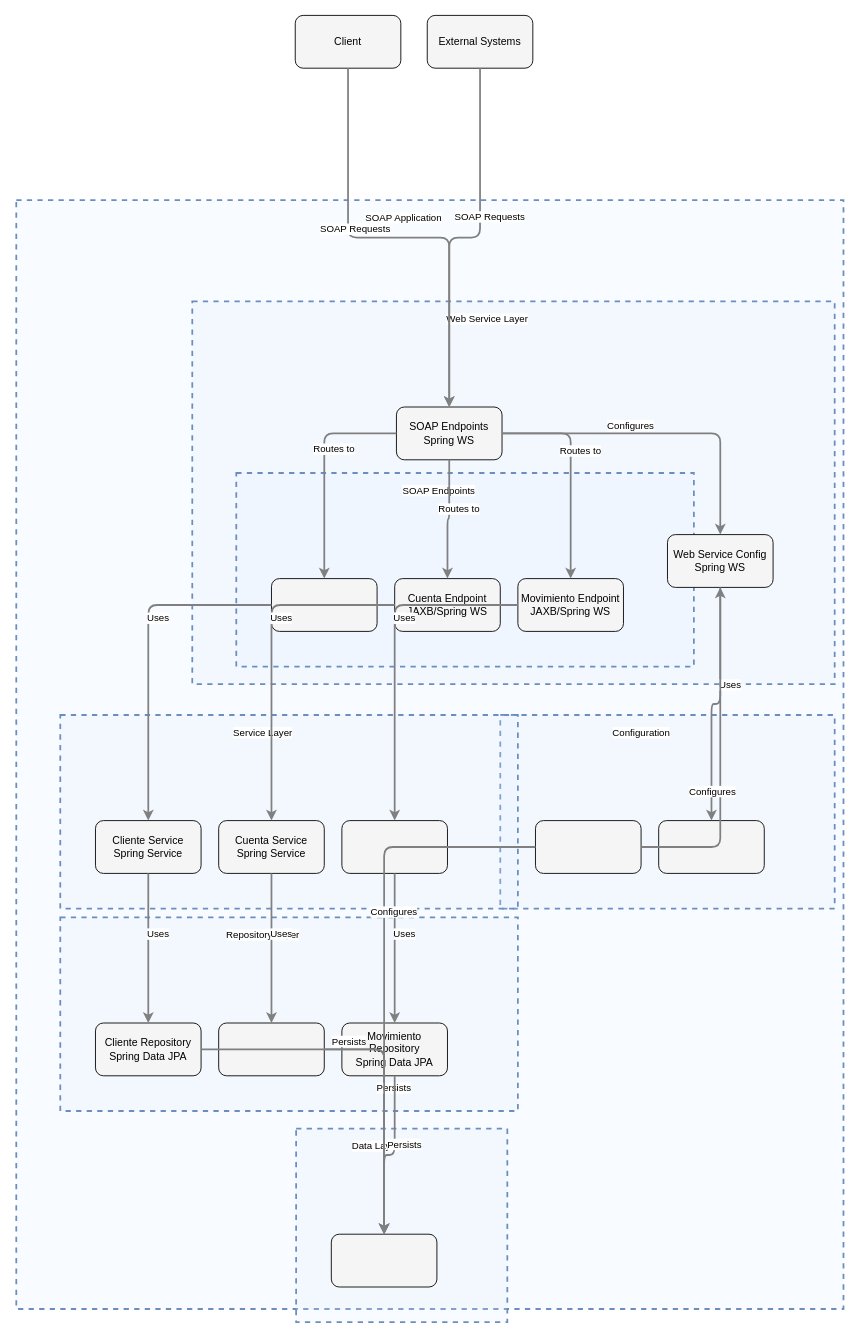
The diagram is 859 pixels wide and 1338 high, and some of its shapes have lost their labels. Each missing label, with the centre of its shape:
"Application Config Spring Boot" goes at (588,846).
"Cliente Endpoint JAXB/Spring WS" goes at (324,604).
"Cuenta Repository Spring Data JPA" goes at (271,1049).
"Movimiento Service Spring Service" goes at (394,846).
"MySQL Database MySQL 8" goes at (383,1260).
"Schema Config XSD" goes at (711,846).
